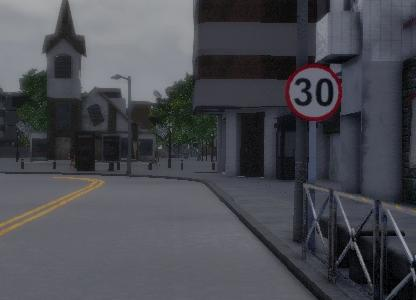Speed_30: (284, 65, 347, 121)
